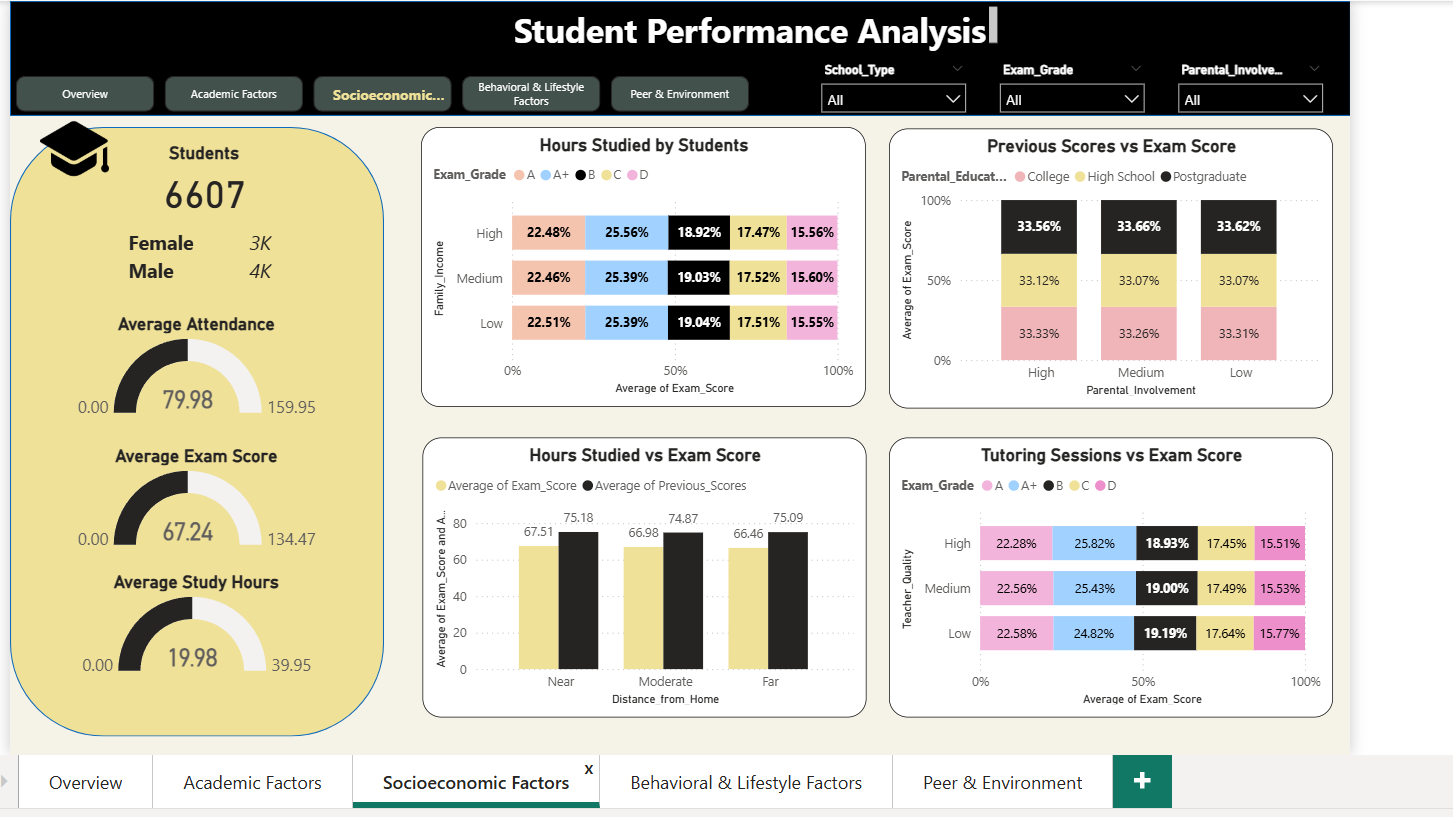

The page's visual inventory and layout, read from the dashboard file:
{"tool":"powerbi","page":{"name":"Socioeconomic Factors","canvas":[1280,720],"ordinal":2},"visuals":[{"type":"shape","box":[0,120.9,357.2,582.1],"z":0},{"type":"group","id":"g1","title":"Group 1","box":[5.6,186.4,265.6,108.2],"z":0,"group":"g2"},{"type":"hundredPercentStackedBarChart","title":"Hours Studied by Students","fields":{"Category":["Students.Family_Income"],"Y":["Avg(Students.Exam_Score)"],"Series":["Students.Exam_Grade"]},"box":[392.9,120.9,424.7,267.2],"z":1000},{"type":"card","title":"Students","fields":{"Values":["Students.Student Count"]},"box":[36.2,134.1,299,74.8],"z":1000,"group":"g2"},{"type":"cardVisual","title":"Students","fields":{"Data":["Students.Student Count"]},"box":[5.6,186.4,265.6,108.2],"z":1000,"group":"g1"},{"type":"hundredPercentStackedColumnChart","title":"Previous Scores vs Exam Score","fields":{"Category":["Students.Parental_Involvement"],"Series":["Students.Parental_Education_Level"],"Y":["Avg(Students.Exam_Score)"]},"box":[838.8,121.4,424.2,267.2],"z":2000},{"type":"gauge","fields":{"Y":["Students.Average Study Hours"]},"box":[15.2,544.5,324.5,105],"z":2000,"group":"g2"},{"type":"clusteredColumnChart","title":"Hours Studied vs Exam Score","fields":{"Category":["Students.Distance_from_Home"],"Y":["Avg(Students.Exam_Score)","Avg(Students.Previous_Scores)"]},"box":[393.5,416.1,424.2,267.2],"z":3000},{"type":"gauge","fields":{"Y":["Students.Average Exam Score"]},"box":[15.2,423.6,324.5,105],"z":3000,"group":"g2"},{"type":"gauge","fields":{"Y":["Students.Average Attendance"]},"box":[15.5,297.8,324.5,105],"z":4000,"group":"g2"},{"type":"hundredPercentStackedBarChart","title":"Tutoring Sessions vs Exam Score","fields":{"Category":["Students.Teacher_Quality"],"Y":["Avg(Students.Exam_Score)"],"Series":["Students.Exam_Grade"]},"box":[838.8,416.1,424.2,267.2],"z":4000},{"type":"shape","box":[0,0,1280.4,109.8],"z":5000},{"type":"slicer","fields":{"Values":["Students.Parental_Involvement"]},"box":[1106.5,52.5,158.1,57.3],"z":6000,"group":"g3"},{"type":"group","id":"g2","title":"Group 2","box":[5.6,134.1,334.4,515.4],"z":6000},{"type":"slicer","fields":{"Values":["Students.Exam_Grade"]},"box":[935.8,52.5,158.1,57.3],"z":7000,"group":"g3"},{"type":"image","box":[19.1,95.4,85.9,90.7],"z":7000},{"type":"slicer","fields":{"Values":["Students.School_Type"]},"box":[765.1,52.5,158.1,57.3],"z":8000,"group":"g3"},{"type":"pageNavigator","box":[6.4,71.6,704.6,35],"z":8000},{"type":"group","id":"g3","title":"Group 3","box":[765.1,52.5,499.5,57.3],"z":9000},{"type":"textbox","box":[475.6,0,472.4,55.7],"z":10000}]}

Visuals, with their boxes on the page's 1280x720 design canvas (x1, y1, x2, y2). These are canvas units, not pixel positions in the 1453x817 screenshot, which may show the page scaled, cropped or inside an application window:
shape: x1=0, y1=121, x2=357, y2=703
"Group 1" group: x1=6, y1=186, x2=271, y2=295
"Hours Studied by Students" hundredPercentStackedBarChart: x1=393, y1=121, x2=818, y2=388
"Students" card: x1=36, y1=134, x2=335, y2=209
"Students" cardVisual: x1=6, y1=186, x2=271, y2=295
"Previous Scores vs Exam Score" hundredPercentStackedColumnChart: x1=839, y1=121, x2=1263, y2=389
gauge - Students.Average Study Hours: x1=15, y1=544, x2=340, y2=650
"Hours Studied vs Exam Score" clusteredColumnChart: x1=394, y1=416, x2=818, y2=683
gauge - Students.Average Exam Score: x1=15, y1=424, x2=340, y2=529
gauge - Students.Average Attendance: x1=16, y1=298, x2=340, y2=403
"Tutoring Sessions vs Exam Score" hundredPercentStackedBarChart: x1=839, y1=416, x2=1263, y2=683
shape: x1=0, y1=0, x2=1280, y2=110
slicer - Students.Parental_Involvement: x1=1106, y1=52, x2=1265, y2=110
"Group 2" group: x1=6, y1=134, x2=340, y2=650
slicer - Students.Exam_Grade: x1=936, y1=52, x2=1094, y2=110
image: x1=19, y1=95, x2=105, y2=186
slicer - Students.School_Type: x1=765, y1=52, x2=923, y2=110
pageNavigator: x1=6, y1=72, x2=711, y2=107
"Group 3" group: x1=765, y1=52, x2=1265, y2=110
textbox: x1=476, y1=0, x2=948, y2=56
